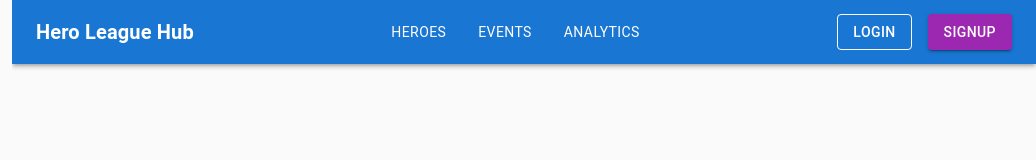
Test: Navbar › navigates to Heroes page
What coordinates should you click on to do the following:
click the link with test id "nav-heroes"
I would click on:
 (419, 32)
Its box is [391,24,446,40].
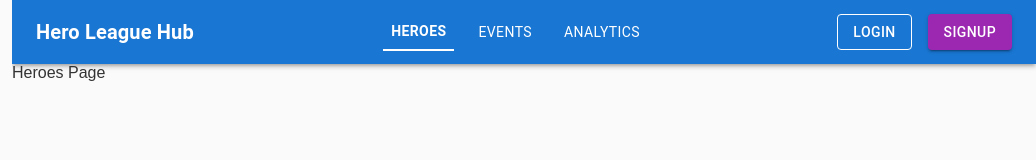
Expected: the text "Heroes Page" is shown, [12,64,105,81]
